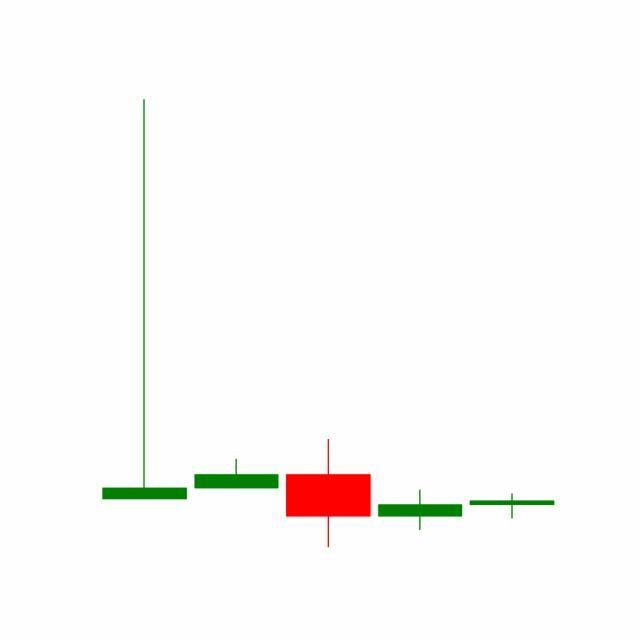Dragonfly Doji: (466, 493, 559, 520)
